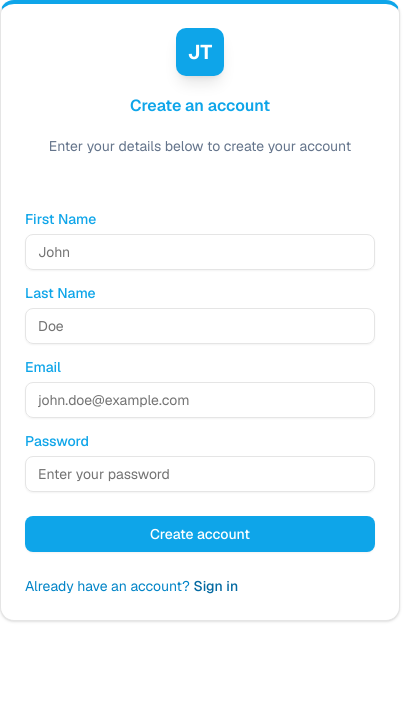
Test: RegisterForm › should display validation errors for empty fields
Click the button "Create account".
click(200, 534)  # box [25,516,375,552]
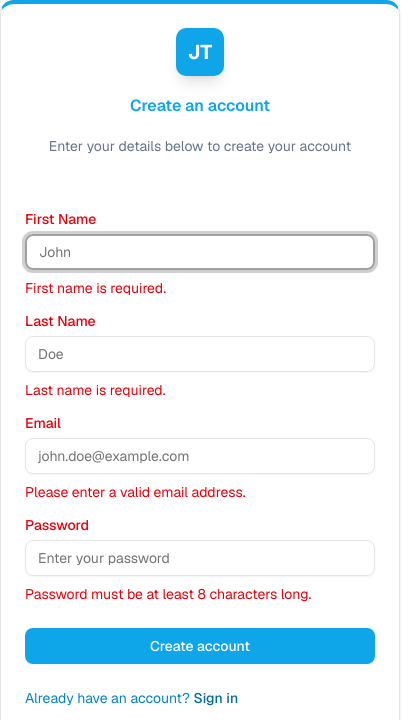
expect the text "First name is required." is shown: met, box [25,279,166,297]
expect the text "Last name is required." is shown: met, box [25,381,166,399]
expect the text "Please enter a valid email address." is shown: met, box [25,483,246,501]
